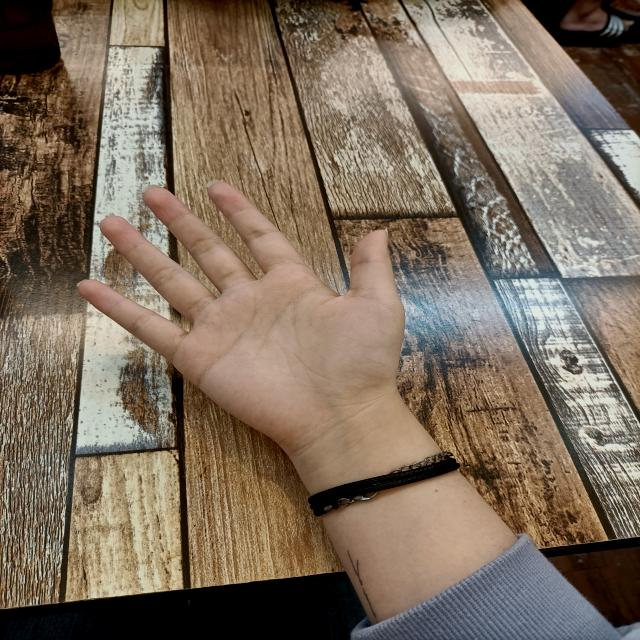no_glove: (59, 165, 420, 461)
